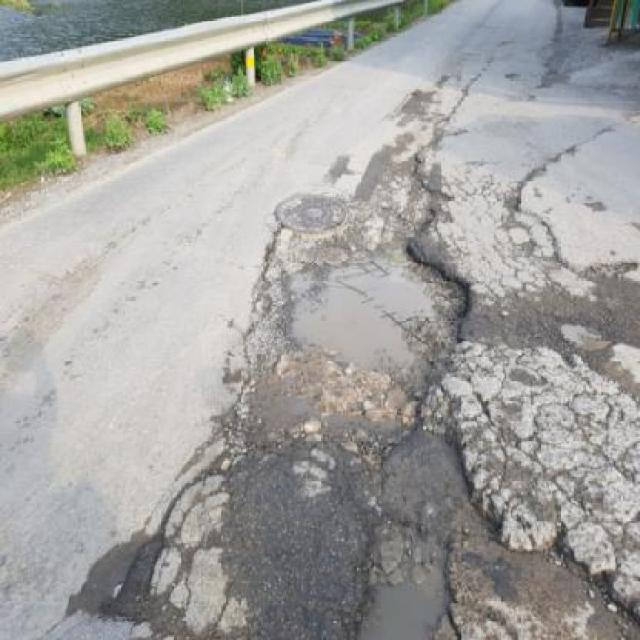Pothole: (266, 246, 482, 397), (362, 518, 480, 640), (272, 190, 351, 236)
